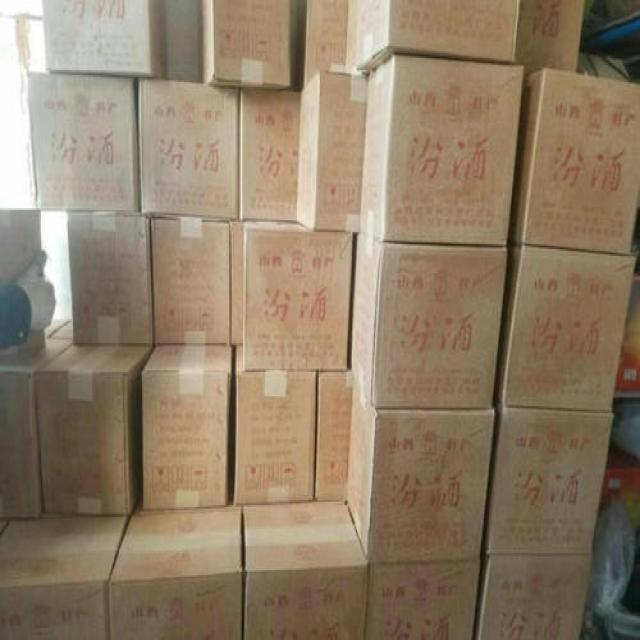box: (358, 56, 525, 246), (349, 236, 508, 410), (347, 382, 495, 563), (507, 68, 640, 256), (494, 244, 637, 411), (35, 346, 152, 517), (480, 406, 612, 553), (108, 507, 243, 640), (242, 502, 367, 640), (243, 220, 353, 370), (0, 515, 128, 640), (27, 72, 138, 210), (141, 345, 230, 510), (140, 80, 239, 218), (0, 338, 72, 517), (234, 346, 315, 503), (355, 0, 520, 75), (296, 70, 366, 234), (67, 212, 152, 346), (151, 213, 229, 345), (474, 553, 591, 640), (44, 0, 168, 80), (364, 561, 480, 640), (239, 87, 300, 222), (202, 0, 292, 90), (515, 0, 584, 75), (315, 370, 352, 500), (305, 0, 348, 84), (0, 210, 41, 285), (229, 220, 243, 346)
